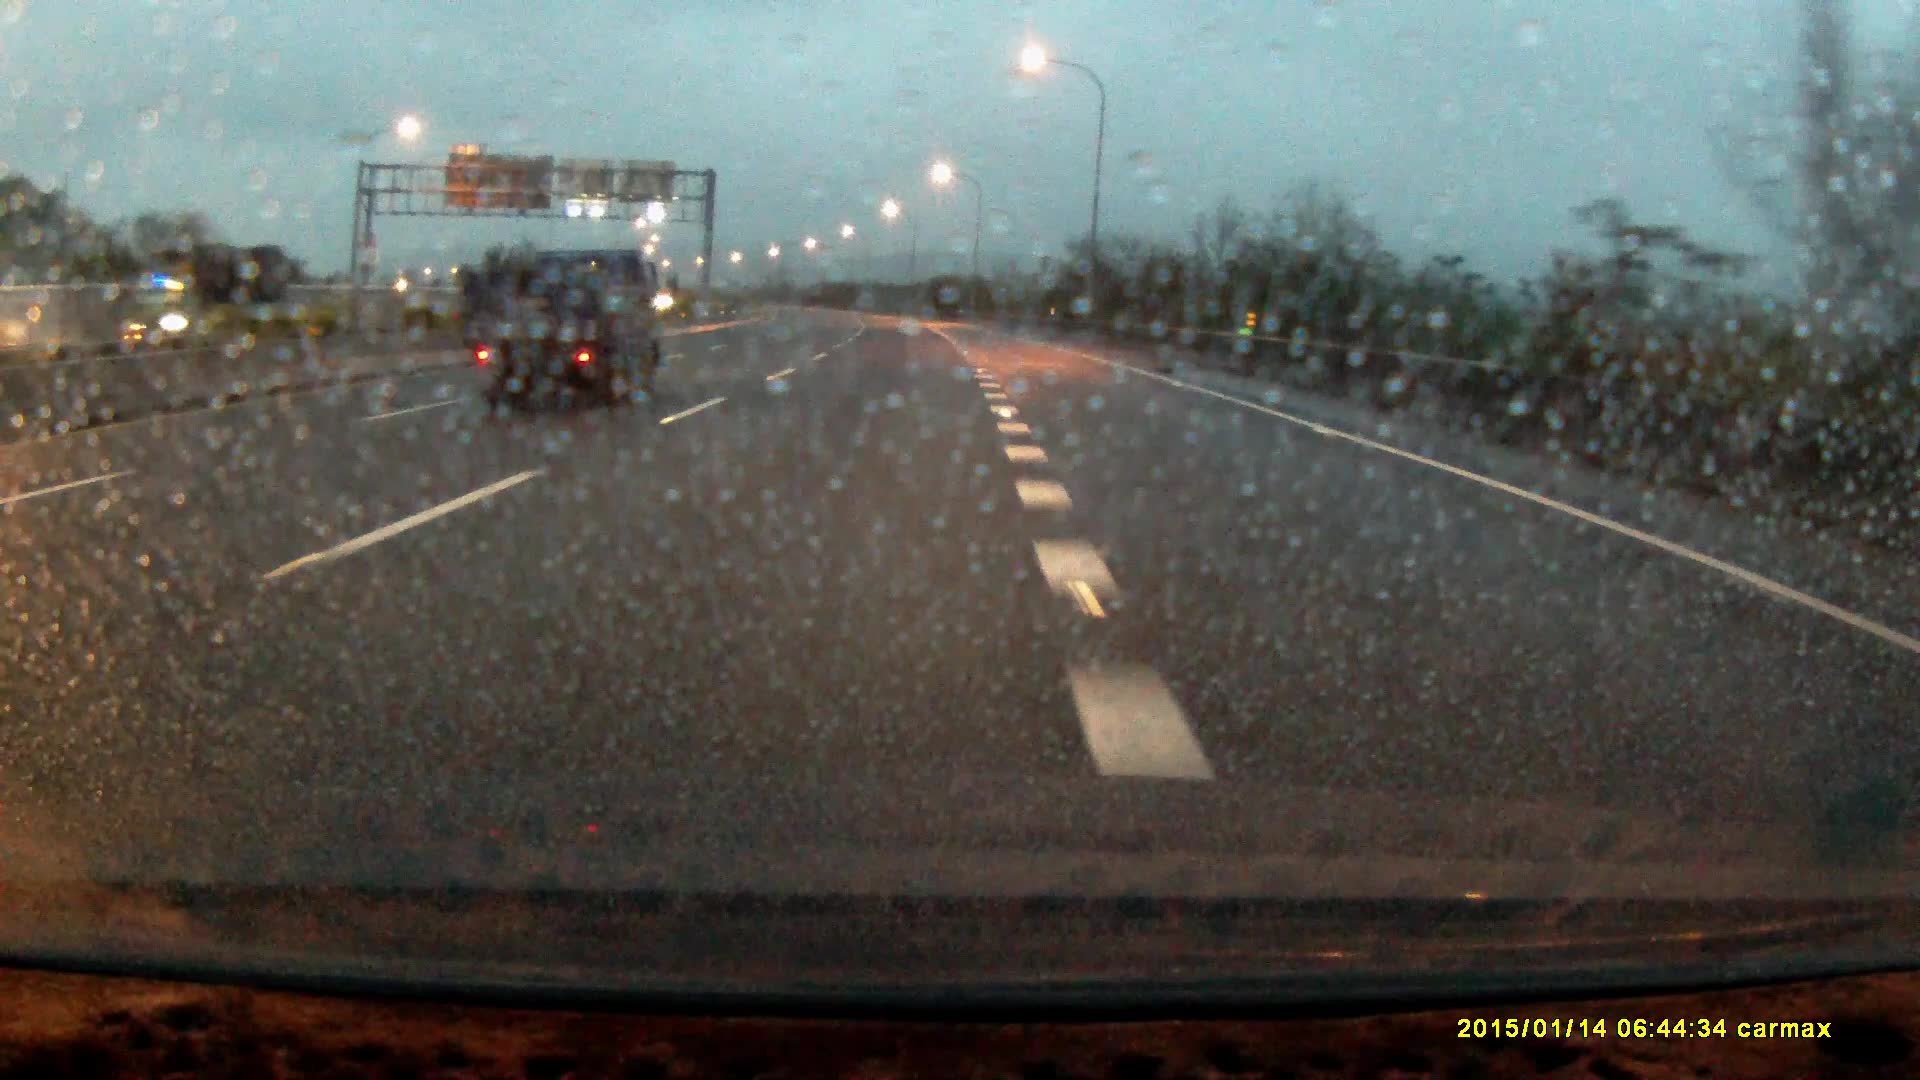vehicle: (460, 248, 665, 411), (117, 243, 289, 347)
